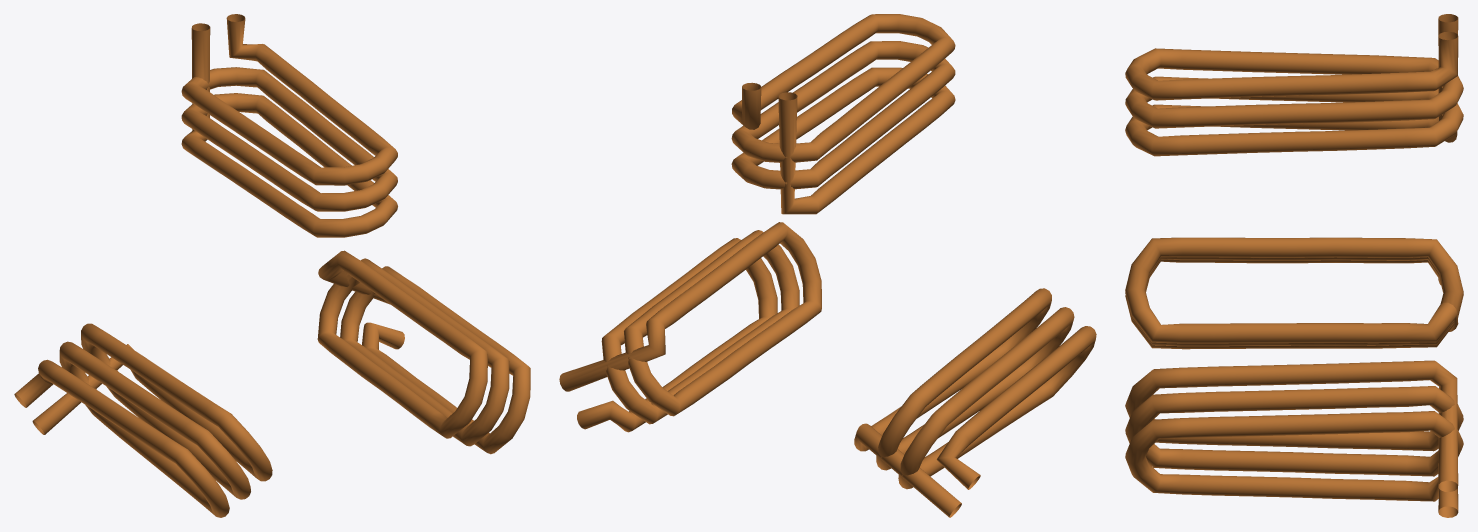
Rendered from DCblCoil11.glb.
3 renders of one model, left to right at view 1: azimuth 30°, elevation 25°; view 2: azimuth 150°, elevation 25°; view 3: azimuth 270°, elevation 25°, orthographic. The views are drawn at different scales.
Parts seen in each view (by area): view 1: Spiral.004, Spiral.002, Spiral.001; view 2: Spiral.004, Spiral.002, Spiral.001; view 3: Spiral.001, Spiral.004, Spiral.002.
Boxes of the visible parts, x1=… form: Spiral.004: x1=181, y1=14, x2=397, y2=237; Spiral.002: x1=14, y1=323, x2=272, y2=517; Spiral.001: x1=317, y1=250, x2=530, y2=454; Spiral.004: x1=731, y1=14, x2=955, y2=214; Spiral.002: x1=854, y1=288, x2=1096, y2=517; Spiral.001: x1=559, y1=222, x2=821, y2=432; Spiral.001: x1=1125, y1=360, x2=1463, y2=517; Spiral.004: x1=1125, y1=14, x2=1463, y2=156; Spiral.002: x1=1125, y1=237, x2=1463, y2=349.
Bounding box in the file's own units: 6.94 × 6.08 × 4.68.
